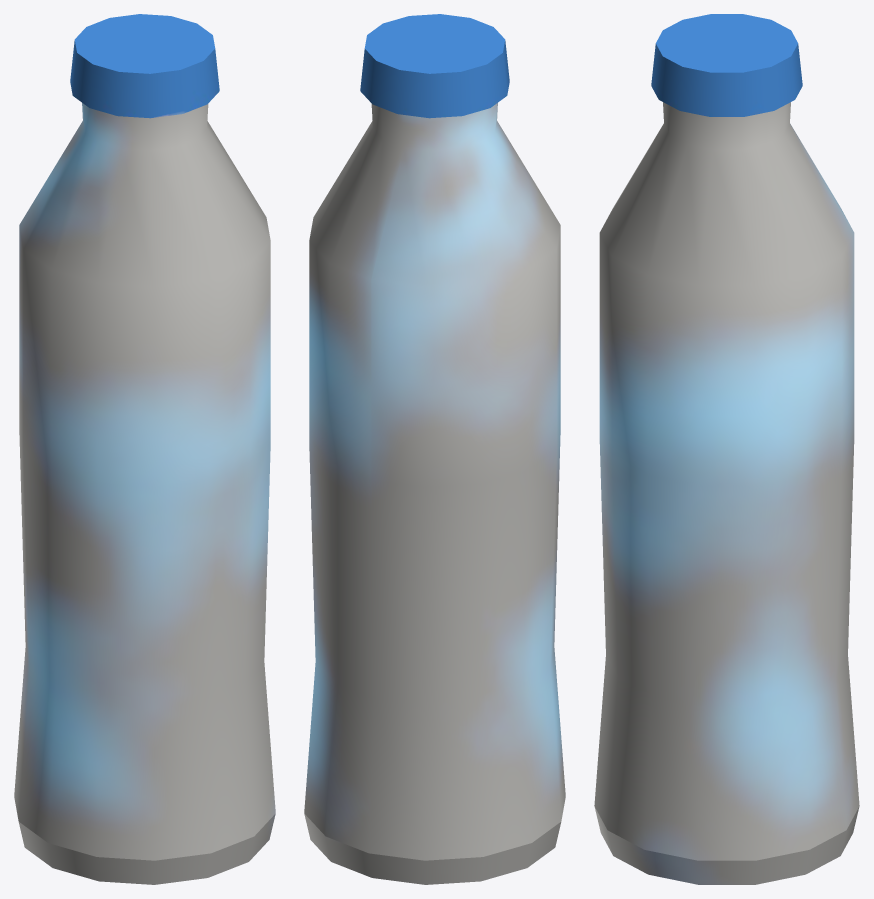
The model's file is Bottle.fbx.
3 renders of one model, left to right at view 1: azimuth 30°, elevation 25°; view 2: azimuth 150°, elevation 25°; view 3: azimuth 270°, elevation 25°, orthographic.
Visible parts, largest first — view 1: prop_Btr_Bottle; view 2: prop_Btr_Bottle; view 3: prop_Btr_Bottle.
Boxes of the visible parts, x1,y1,x2,y2 form: prop_Btr_Bottle: (14, 14, 275, 884); prop_Btr_Bottle: (304, 14, 565, 884); prop_Btr_Bottle: (594, 14, 859, 884).
Bounding box in the file's own units: 0.0384 × 0.1293 × 0.0393.
